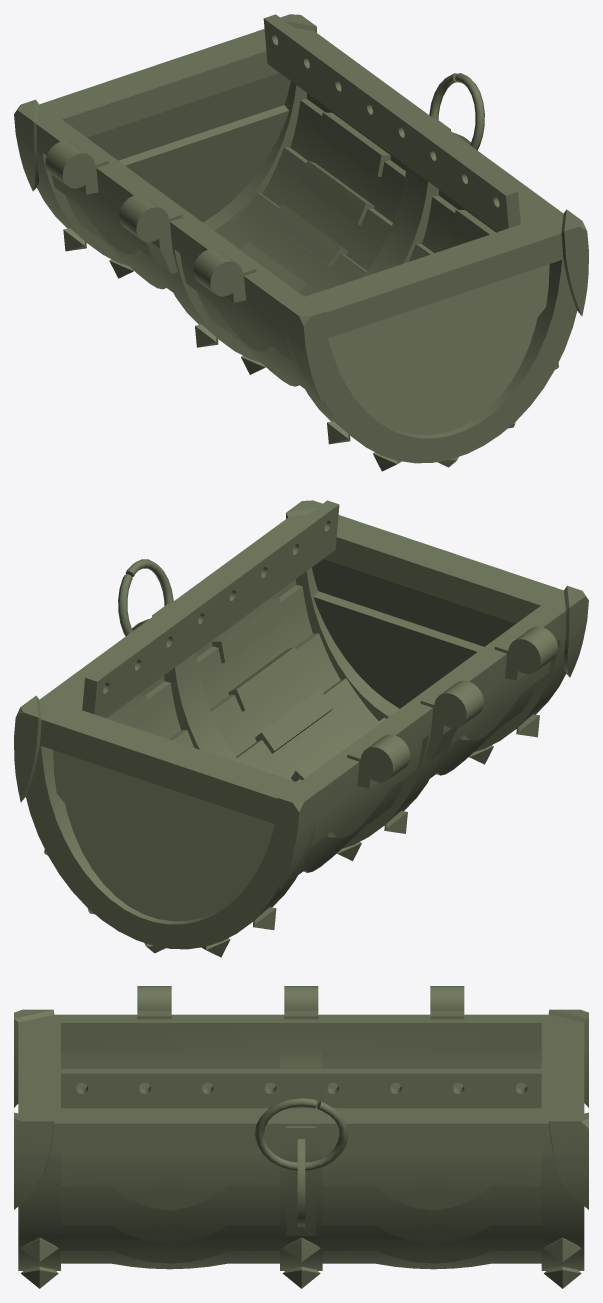
Rendered from Armored_chest_part_2_pivot.FBX.
3 renders of one model, top to bottom at view 1: azimuth 30°, elevation 25°; view 2: azimuth 150°, elevation 25°; view 3: azimuth 270°, elevation 25°, orthographic.
Parts seen in each view (by area): view 1: Armored_chest_part_2_pivot; view 2: Armored_chest_part_2_pivot; view 3: Armored_chest_part_2_pivot.
Boxes of the visible parts, x1,y1,x2,y2 form: Armored_chest_part_2_pivot: (14,14,588,471); Armored_chest_part_2_pivot: (14,500,588,957); Armored_chest_part_2_pivot: (14,986,588,1288).
Size of the model in its own units: 127 by 181 by 88.8.
